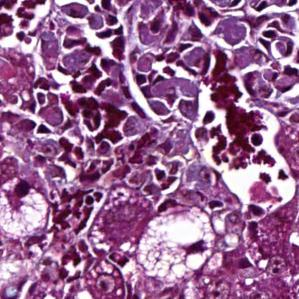ballooning: (134, 202, 218, 284), (0, 174, 51, 240)
